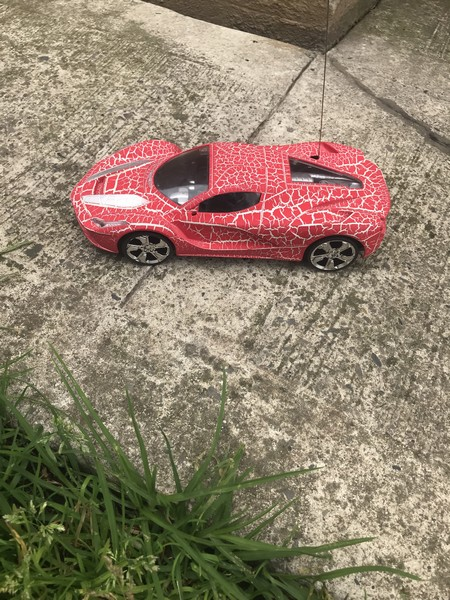RC: (74, 128, 395, 274)
